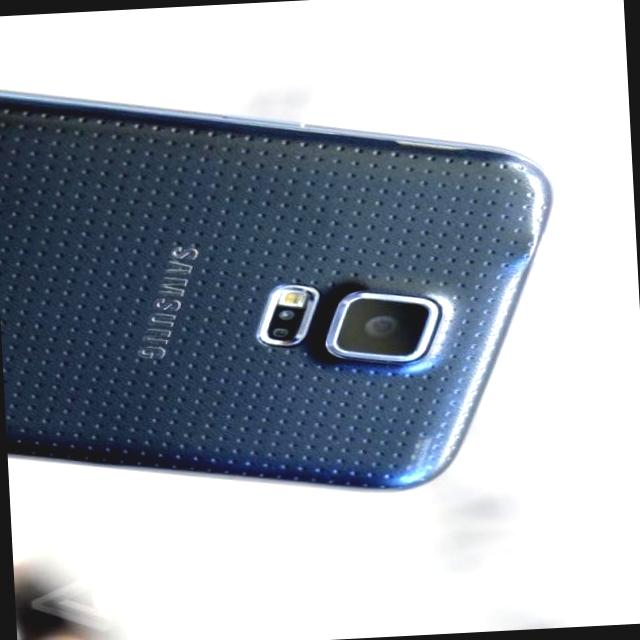lens_back: (318, 283, 449, 368)
phone: (0, 61, 570, 516)
